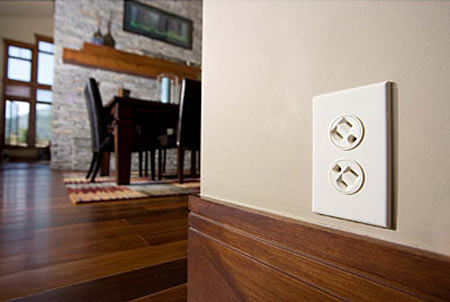outlet: (331, 161, 360, 190), (331, 119, 360, 147)
